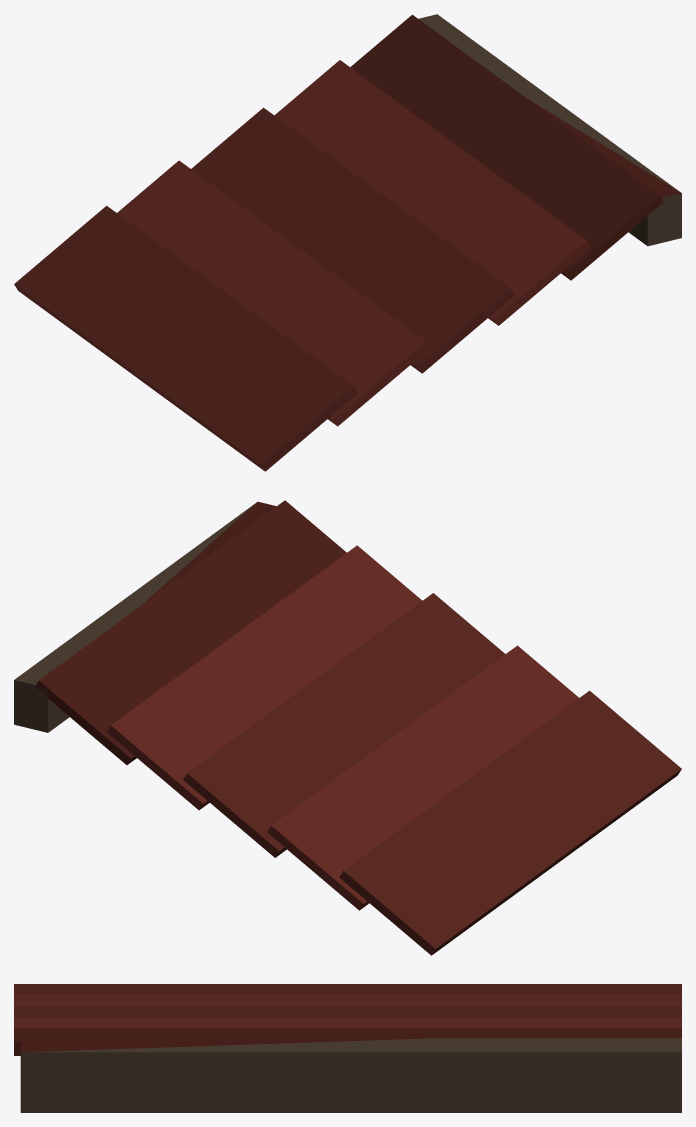
Rendered from A_Roof10.fbx.
3 renders of one model, top to bottom at view 1: azimuth 30°, elevation 25°; view 2: azimuth 150°, elevation 25°; view 3: azimuth 270°, elevation 25°, orthographic. The views are drawn at different scales.
Parts seen in each view (by area): view 1: A_Roof10; view 2: A_Roof10; view 3: A_Roof10.
Boxes of the visible parts, bbox=[...] form: A_Roof10: bbox=[14, 14, 681, 471]; A_Roof10: bbox=[14, 500, 681, 955]; A_Roof10: bbox=[14, 984, 681, 1112].
Bounding box in the file's own units: 98.9 × 40.23 × 100.
